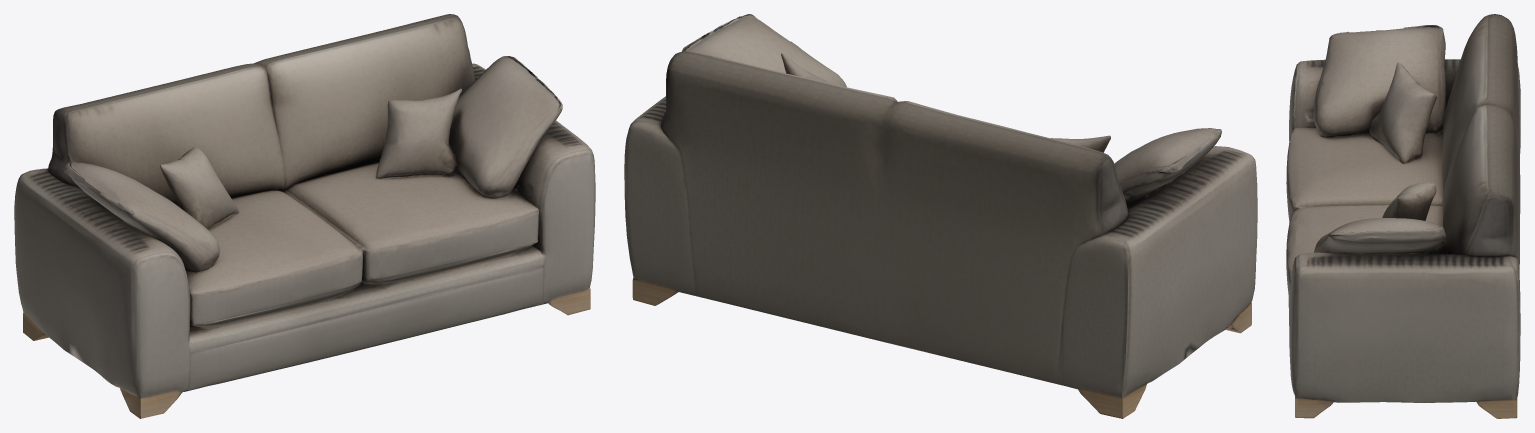
File: modern_gray_sofa__3d_model.glb
The picture shows the model from 3 angles, left to right: view 1: azimuth 30°, elevation 25°; view 2: azimuth 150°, elevation 25°; view 3: azimuth 270°, elevation 25°; orthographic projection. The views are drawn at different scales.
Parts seen in each view (by area): view 1: world_0; view 2: world_0; view 3: world_0.
Boxes of the visible parts, left/top/right/bottom form: world_0: left=14, top=14, right=595, bottom=418; world_0: left=624, top=14, right=1257, bottom=418; world_0: left=1286, top=14, right=1520, bottom=418.
Bounding box in the file's own units: 0.9927 × 0.4585 × 0.4552.
1 material, 1 textured.
